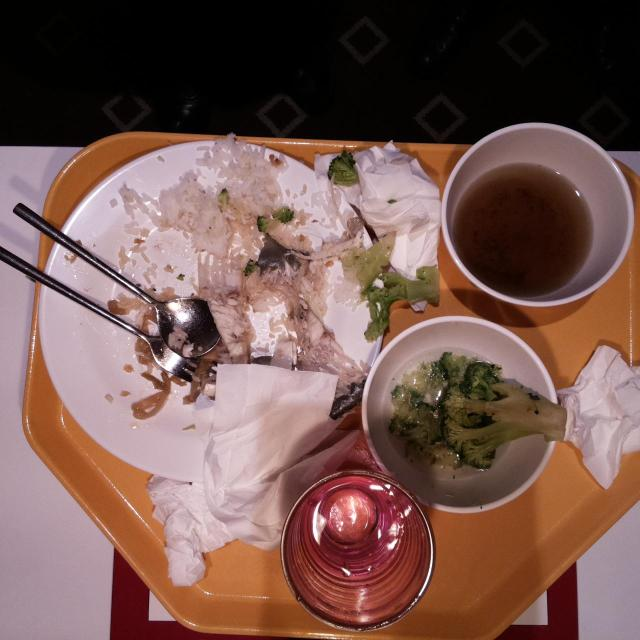Bone-fish: (286, 302, 358, 386), (195, 253, 311, 299)
Rice: (158, 147, 286, 254)
Vegetable: (392, 353, 527, 469), (360, 270, 438, 343), (341, 232, 395, 290), (327, 149, 361, 188), (257, 205, 294, 233)
